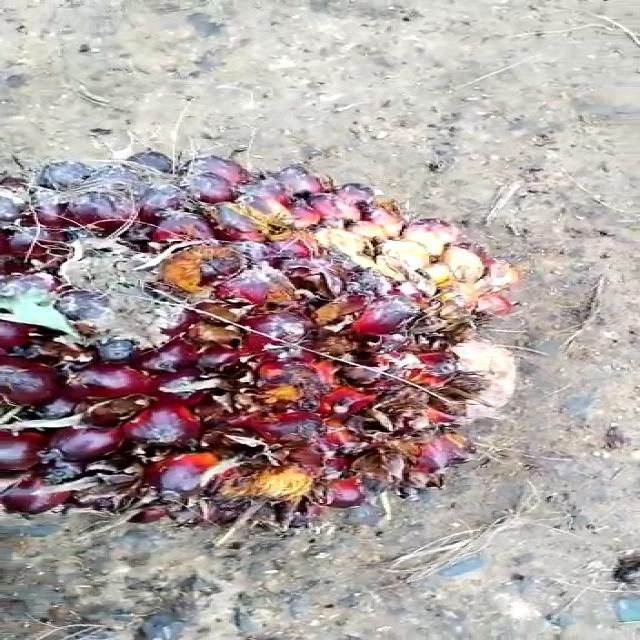palm oil: (0, 132, 544, 521)
